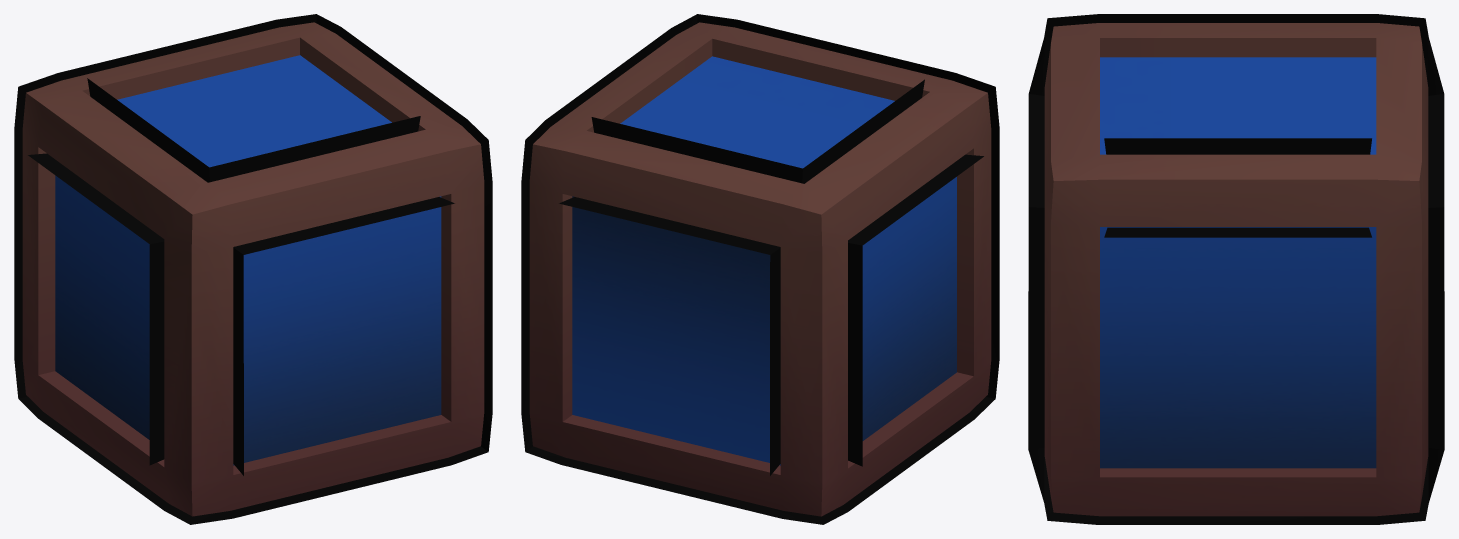
The model's file is PROP_Crate.fbx.
The picture shows the model from 3 angles, left to right: view 1: azimuth 30°, elevation 25°; view 2: azimuth 150°, elevation 25°; view 3: azimuth 270°, elevation 25°; orthographic projection. The views are drawn at different scales.
Parts seen in each view (by area): view 1: polySurface6, polySurface5; view 2: polySurface6, polySurface5; view 3: polySurface6, polySurface5.
Boxes of the visible parts, bbox=[...] form: polySurface6: bbox=[22, 22, 484, 516]; polySurface5: bbox=[14, 14, 492, 524]; polySurface6: bbox=[529, 22, 991, 516]; polySurface5: bbox=[521, 14, 999, 524]; polySurface6: bbox=[1044, 23, 1428, 516]; polySurface5: bbox=[1028, 14, 1444, 524].
Size of the model in its own units: 338 by 338 by 338.
